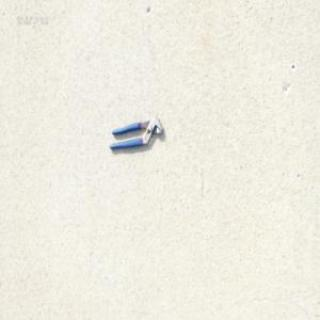Pliertrack_idkeyframe: (108, 115, 164, 151)
